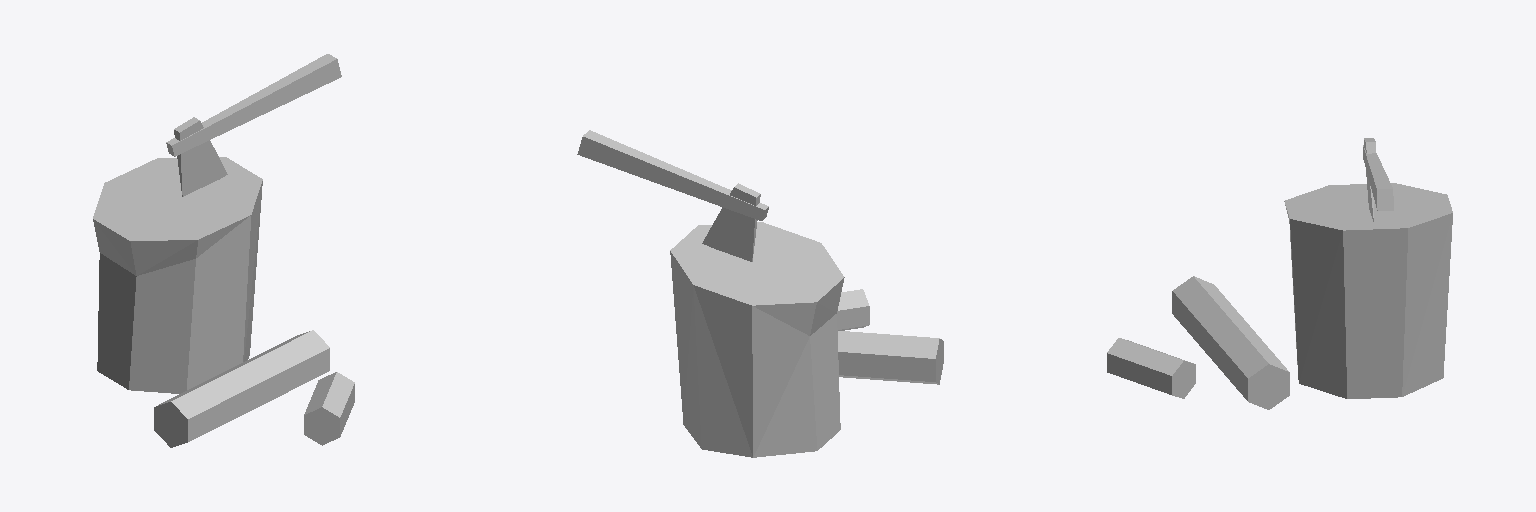
File: log_002.obj
The picture shows the model from 3 angles: view 1: azimuth 30°, elevation 25°; view 2: azimuth 150°, elevation 25°; view 3: azimuth 270°, elevation 25°; orthographic projection.
Parts seen in each view (by area): view 1: log_002; view 2: log_002; view 3: log_002.
Boxes of the visible parts, box(x1,y1,x2,y2) form: log_002: box(93, 54, 354, 447); log_002: box(577, 130, 943, 457); log_002: box(1107, 138, 1452, 409).
Size of the model in its own units: 0.8043 by 0.7398 by 0.8941.